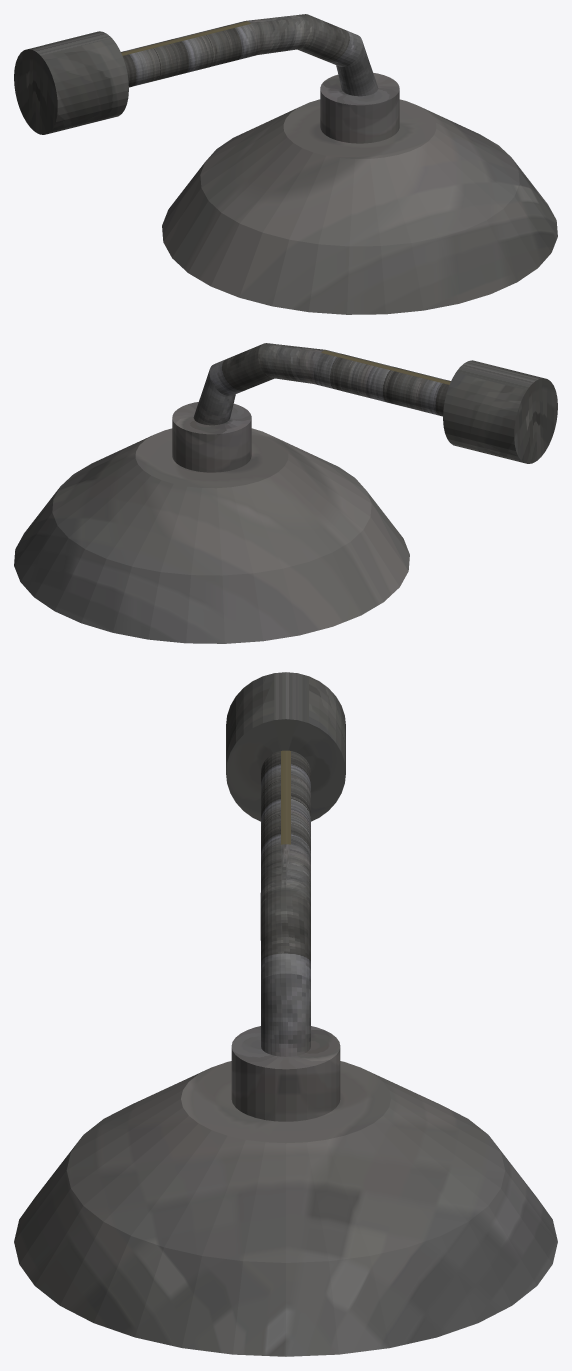
File: low_poly_psx_wall_lamp_with_canopy.glb
3 renders of one model, top to bottom at view 1: azimuth 30°, elevation 25°; view 2: azimuth 150°, elevation 25°; view 3: azimuth 270°, elevation 25°, orthographic. The views are drawn at different scales.
Visible parts, largest first — view 1: Cylinder; view 2: Cylinder; view 3: Cylinder.
Boxes of the visible parts, <box> form: Cylinder: <box>14,14,557,314</box>; Cylinder: <box>14,343,557,643</box>; Cylinder: <box>14,672,557,1356</box>.
Bounding box in the file's own units: 2.77 × 1.68 × 1.91.
1 material, 1 textured.
